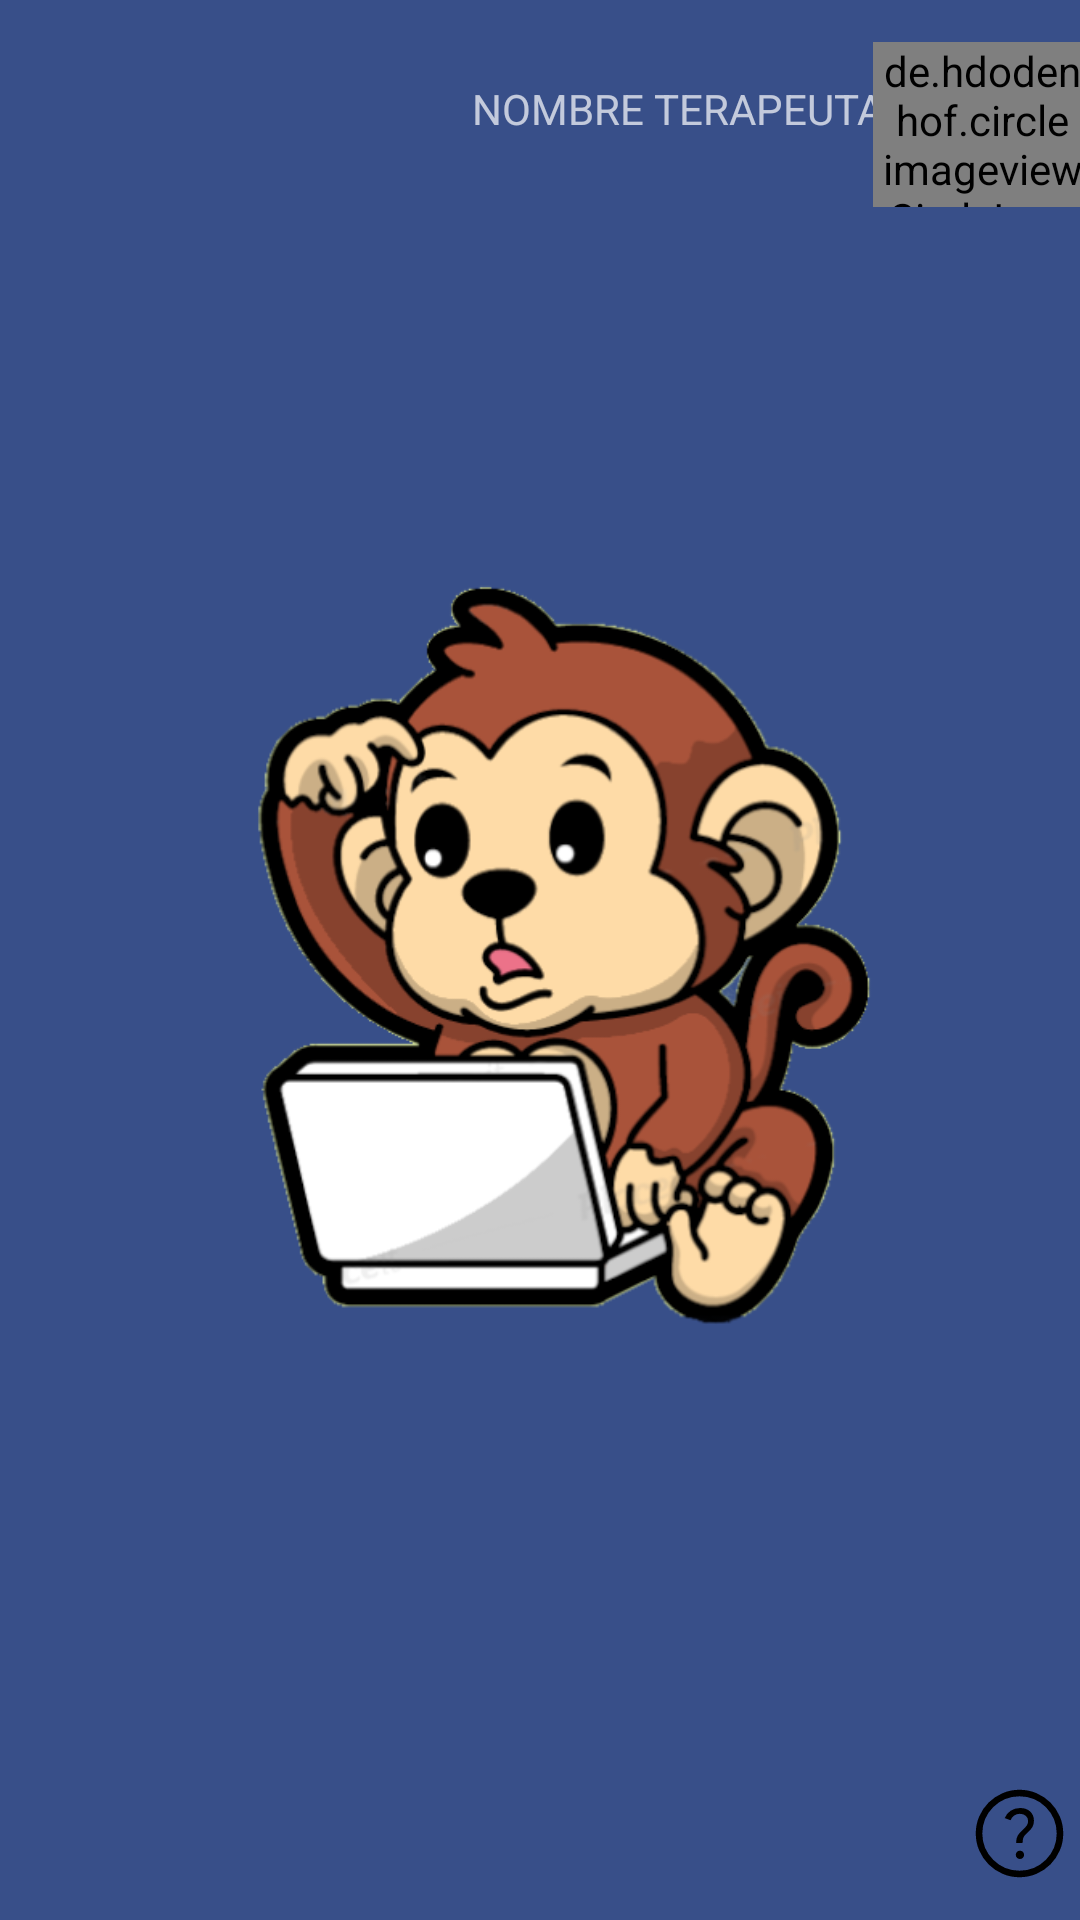

Named icons in this screenshot (1080x1920) and their bounding boxes, region(x1, y1, x2, y2):
help: region(975, 1789, 1064, 1878)
